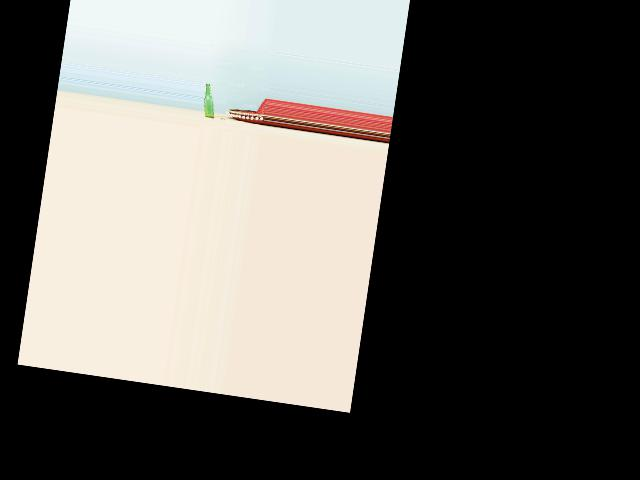beer: (201, 83, 218, 118)
